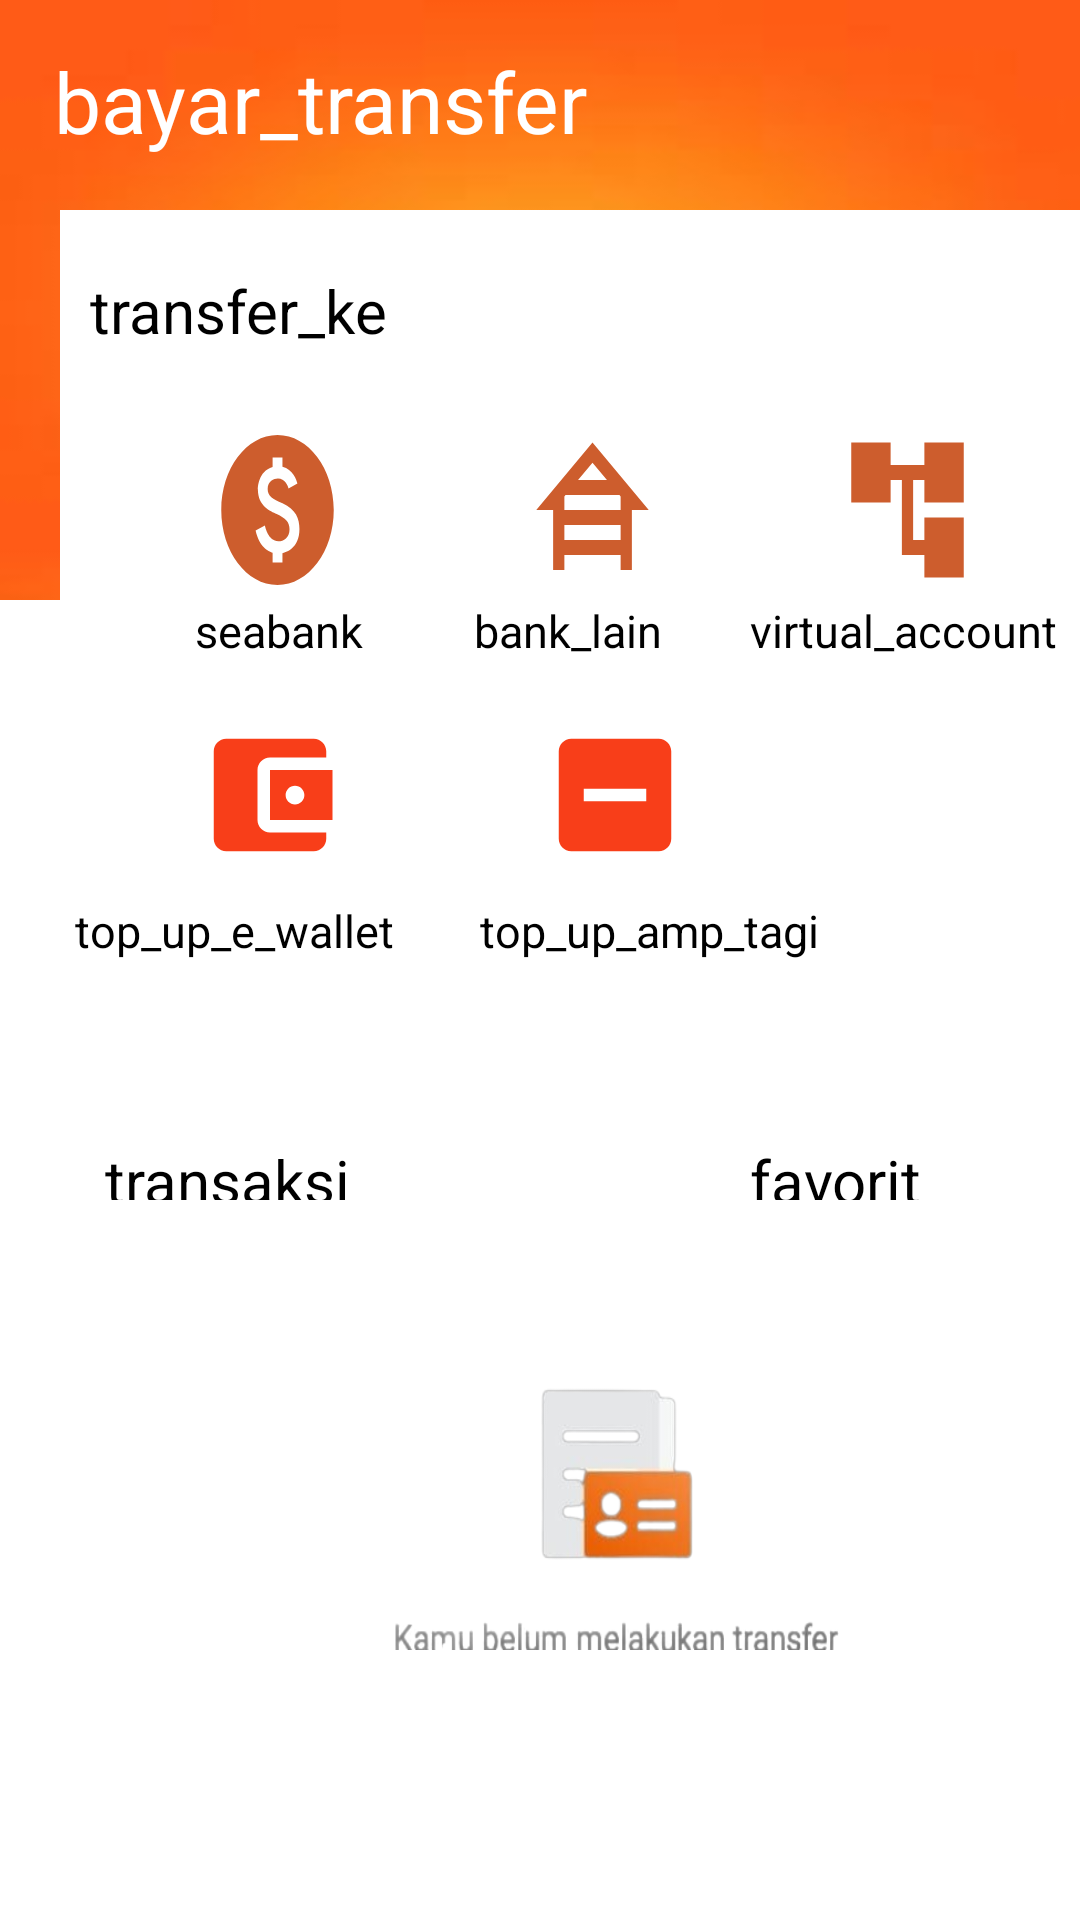

Where to tap for icons on this 1080w x 1920h app screen, as (x,y):
house siding: (592,506)
indeterminate: (615,795)
paid: (277,510)
